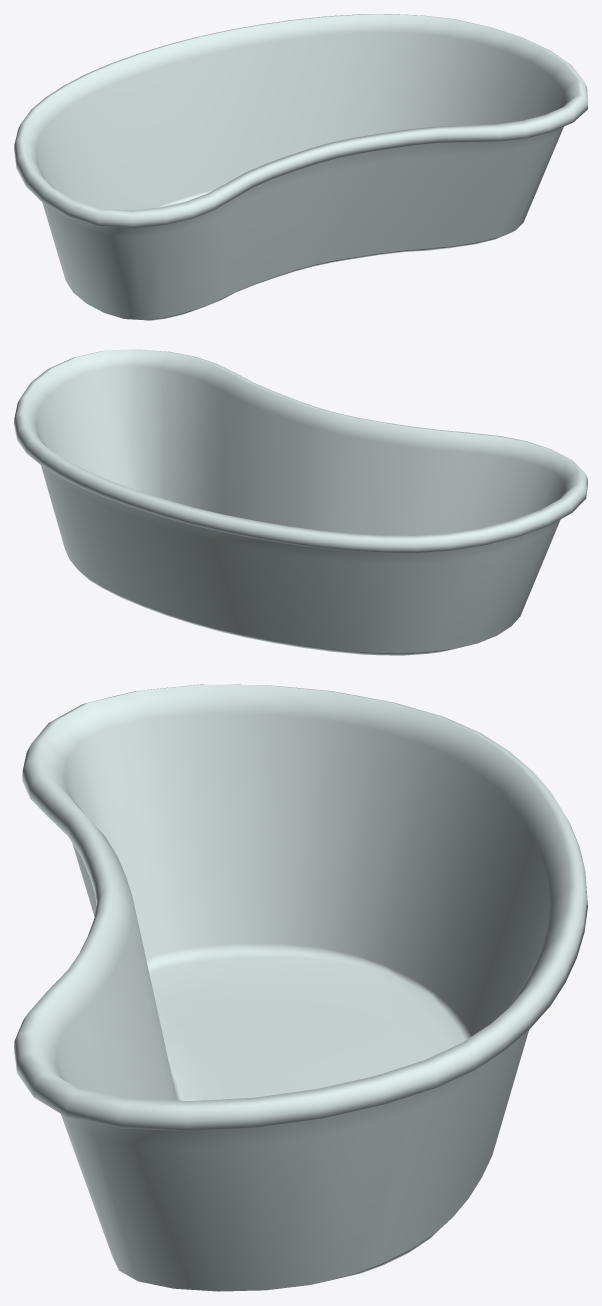
Rendered from BowlB.fbx.
3 views of the same model, one above another, from view 1: azimuth 30°, elevation 25°; view 2: azimuth 150°, elevation 25°; view 3: azimuth 270°, elevation 25° (orthographic). The views are drawn at different scales.
Parts seen in each view (by area): view 1: BowlB; view 2: BowlB; view 3: BowlB.
Part boxes in pixels (x1,y1,x2,y2): BowlB: [14, 14, 587, 320]; BowlB: [14, 349, 587, 655]; BowlB: [14, 684, 587, 1291].
Size of the model in its own units: 34.52 by 9.17 by 19.3.
1 material, 1 textured.
